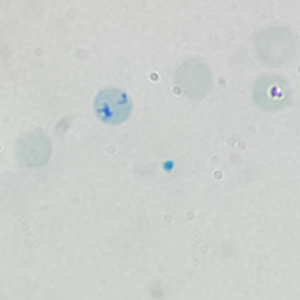aggregate reticulocyte: (91, 86, 135, 126)
erythrocyte: (252, 24, 300, 70), (250, 69, 297, 115), (171, 57, 215, 101), (10, 129, 54, 171)
